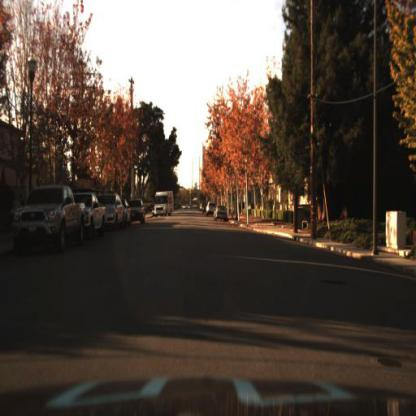car: (12, 184, 87, 258), (78, 191, 107, 238), (83, 186, 106, 241), (103, 190, 123, 230), (127, 195, 150, 226), (155, 193, 176, 219), (214, 204, 229, 224)
truck: (153, 185, 177, 224)
